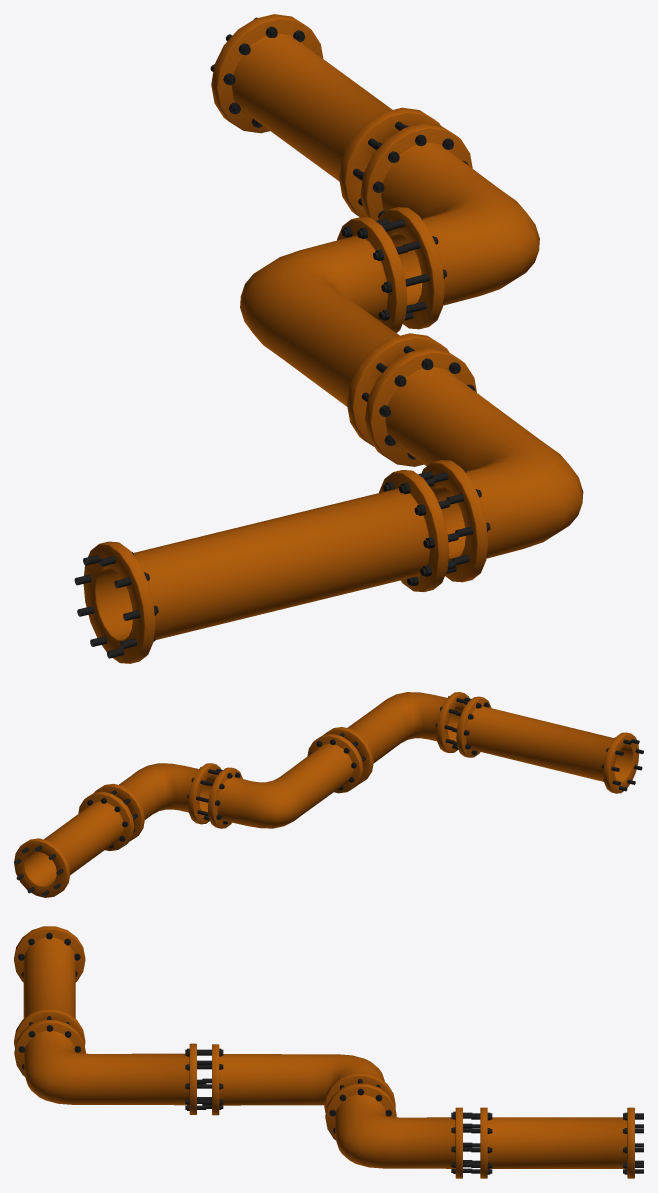
File: IND_PIPE_1_V1.FBX
3 renders of one model, top to bottom at view 1: azimuth 30°, elevation 25°; view 2: azimuth 150°, elevation 25°; view 3: azimuth 270°, elevation 25°, orthographic. The views are drawn at different scales.
Visible parts, largest first — view 1: Cylinder001, Pipe_1; view 2: Cylinder001, Pipe_1; view 3: Cylinder001, Pipe_1.
Boxes of the visible parts, x1,y1,x2,y2 form: Cylinder001: (83,14,583,663); Pipe_1: (74,17,490,658); Cylinder001: (14,692,639,897); Pipe_1: (14,696,643,896); Cylinder001: (14,926,634,1178); Pipe_1: (18,932,643,1174).
Bounding box in the file's own units: 1332 × 194 × 1740.
